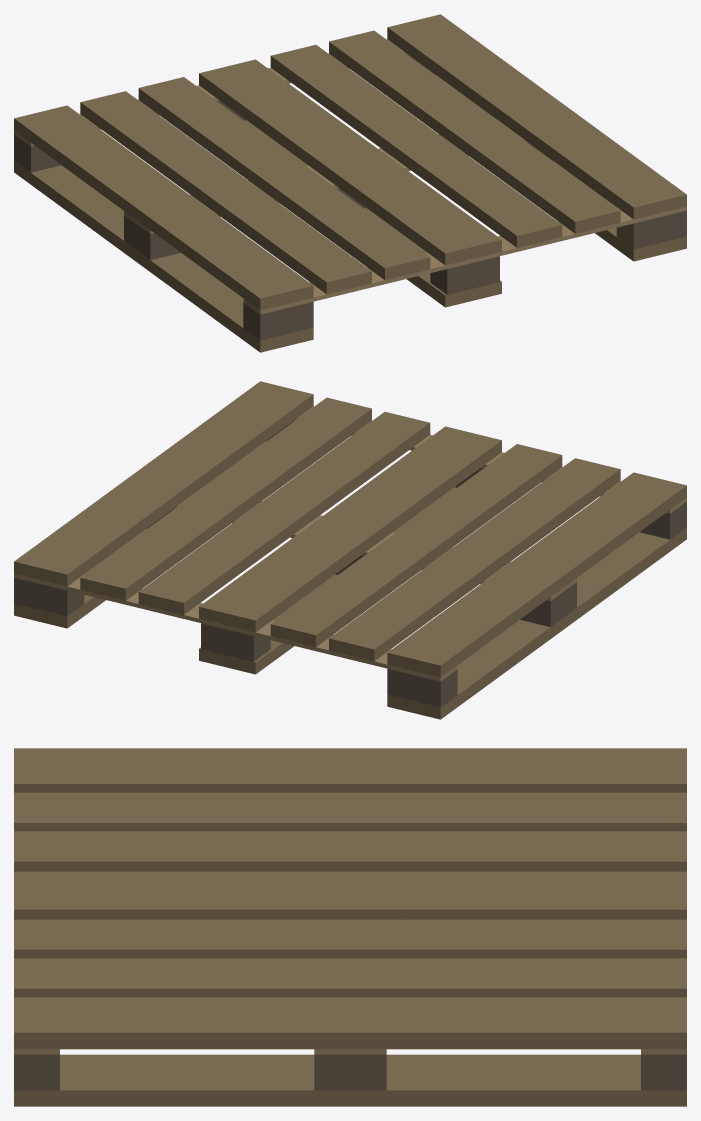
File: Pallet.fbx
3 renders of one model, top to bottom at view 1: azimuth 30°, elevation 25°; view 2: azimuth 150°, elevation 25°; view 3: azimuth 270°, elevation 25°, orthographic. The views are drawn at different scales.
Parts seen in each view (by area): view 1: Pallet; view 2: Pallet; view 3: Pallet.
Part boxes in pixels (x1,y1,x2,y2): Pallet: (14,14,686,352); Pallet: (14,381,686,719); Pallet: (14,748,686,1106).
Bounding box in the file's own units: 1.75 × 0.2119 × 1.75.
